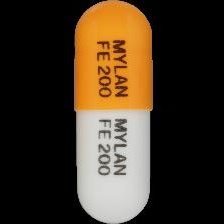0378-8630: (0, 0, 224, 224)
